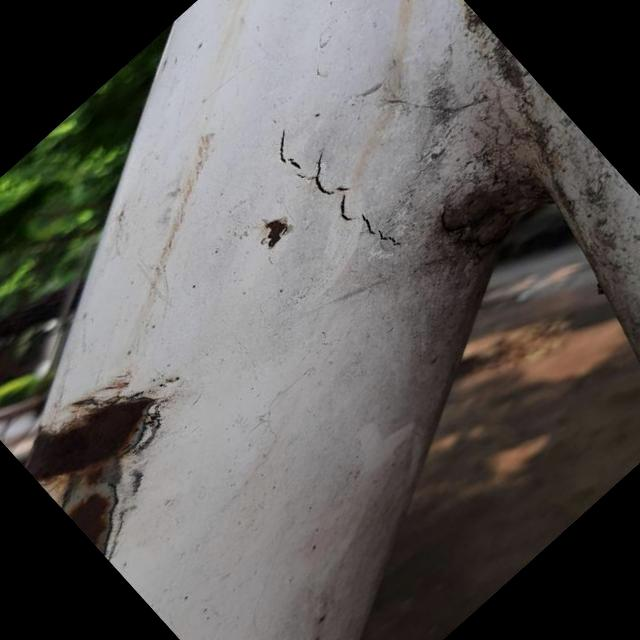defect: (273, 125, 402, 256)
